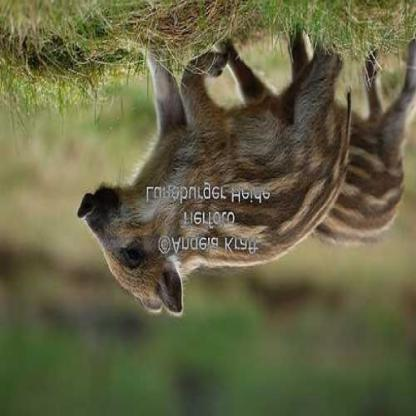boar: (76, 14, 329, 331), (306, 68, 415, 251)
